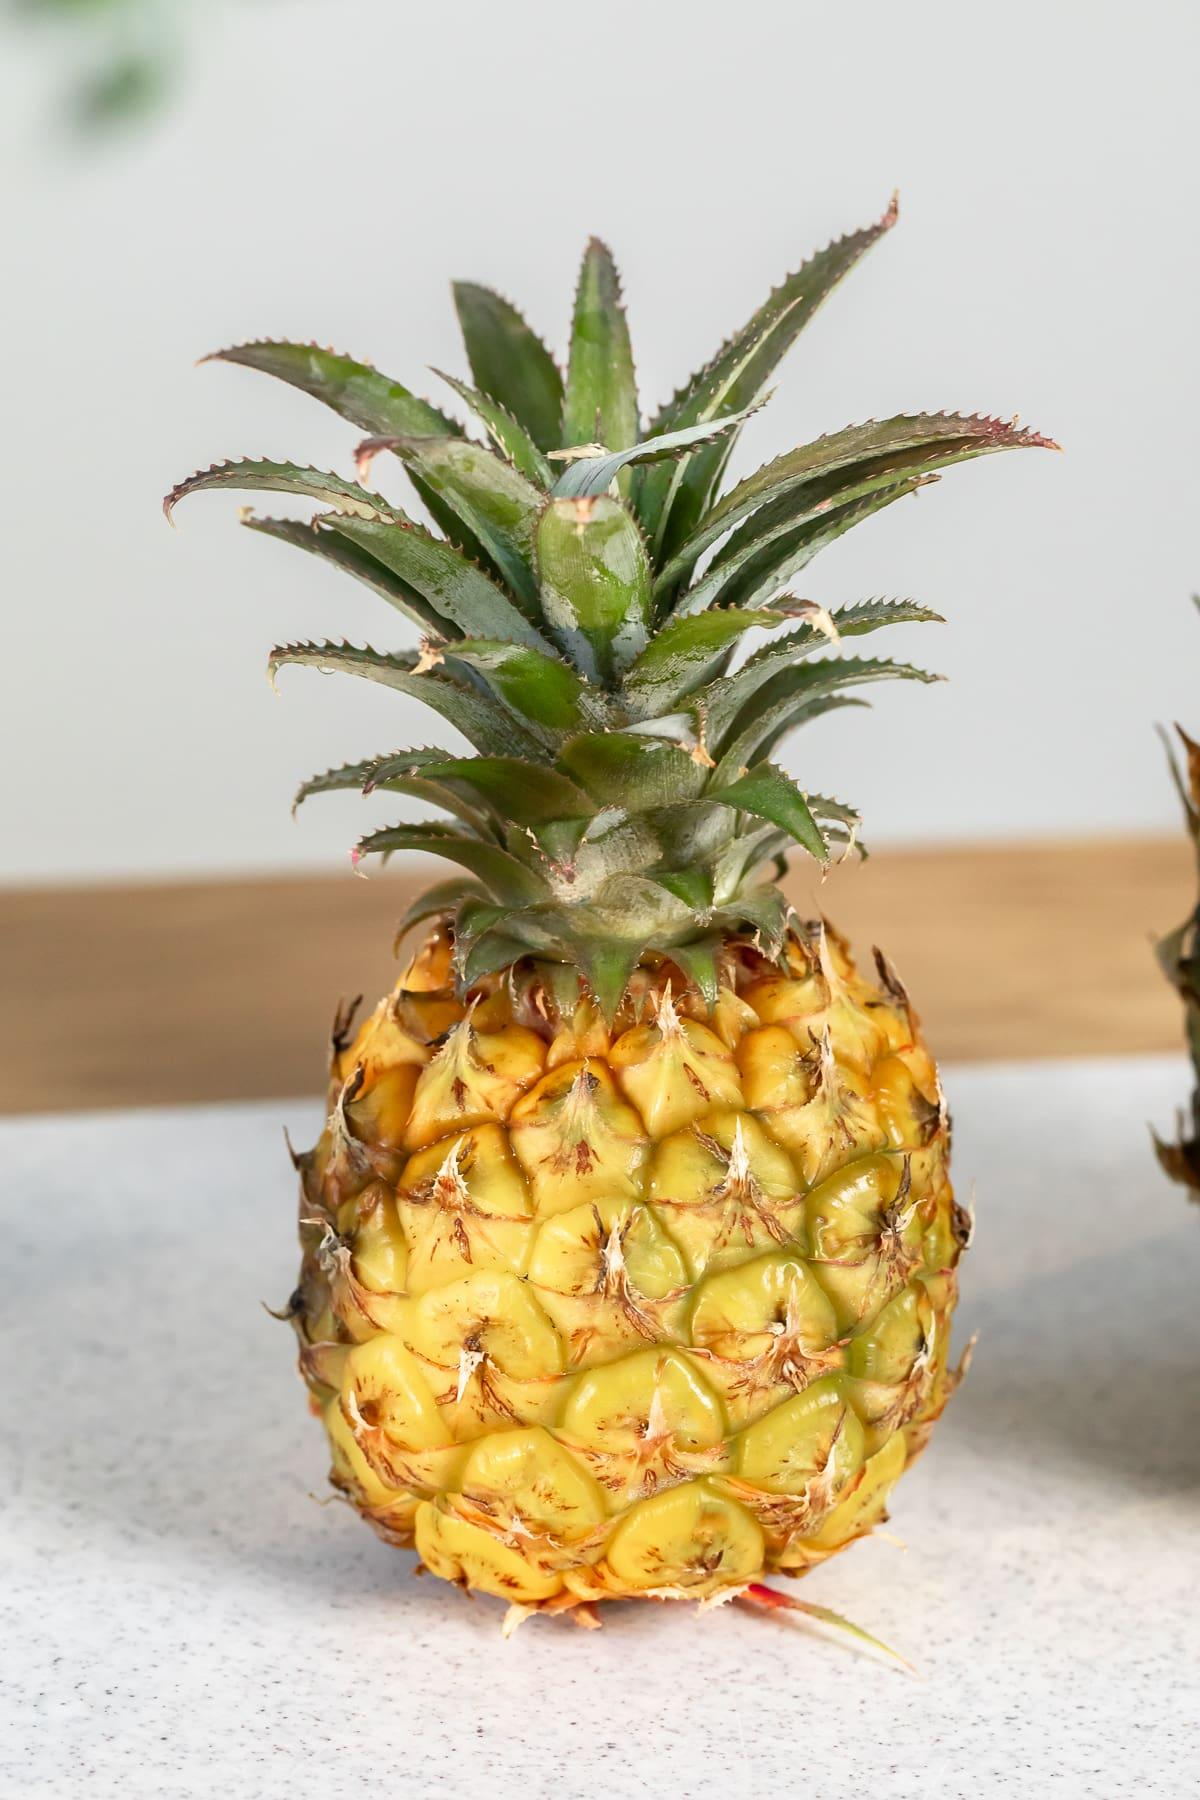pineapple: (159, 170, 1069, 1649)
